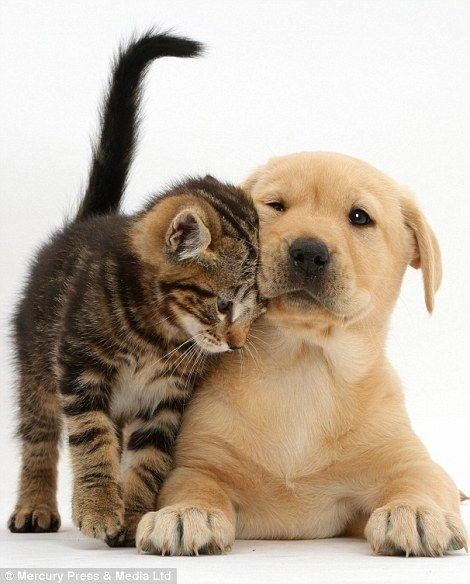non-dog: (7, 31, 269, 548)
puppy-dog: (134, 151, 468, 559)
